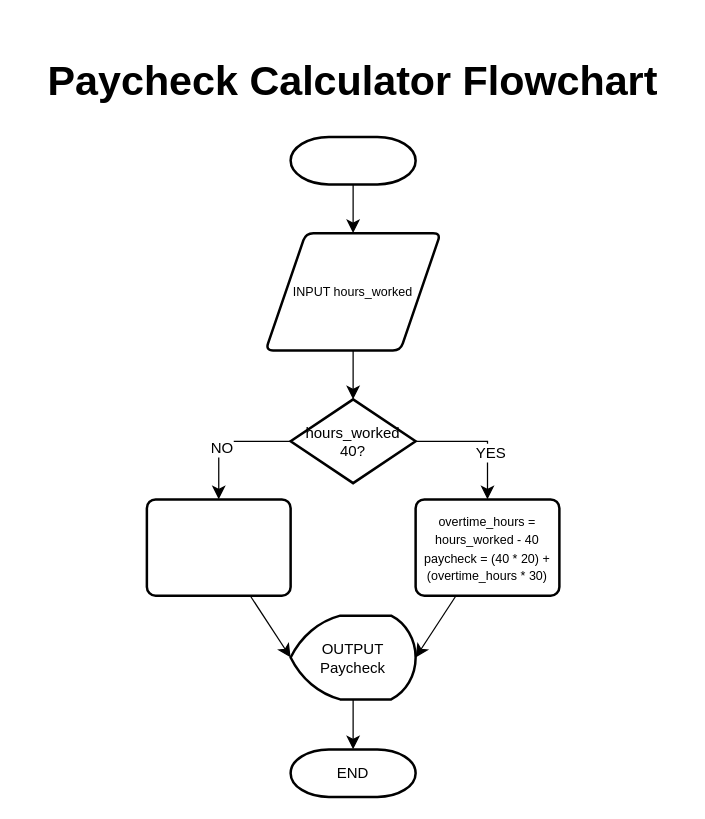
The diagram is 705 pixels wide and 819 high, and some of its shapes have lost their labels. The box of each missing label's shape, as (x1, y1, x2, y2) in pixels:
paycheck = hours_worked * 20: (145, 498, 291, 596)
START: (289, 135, 416, 185)
